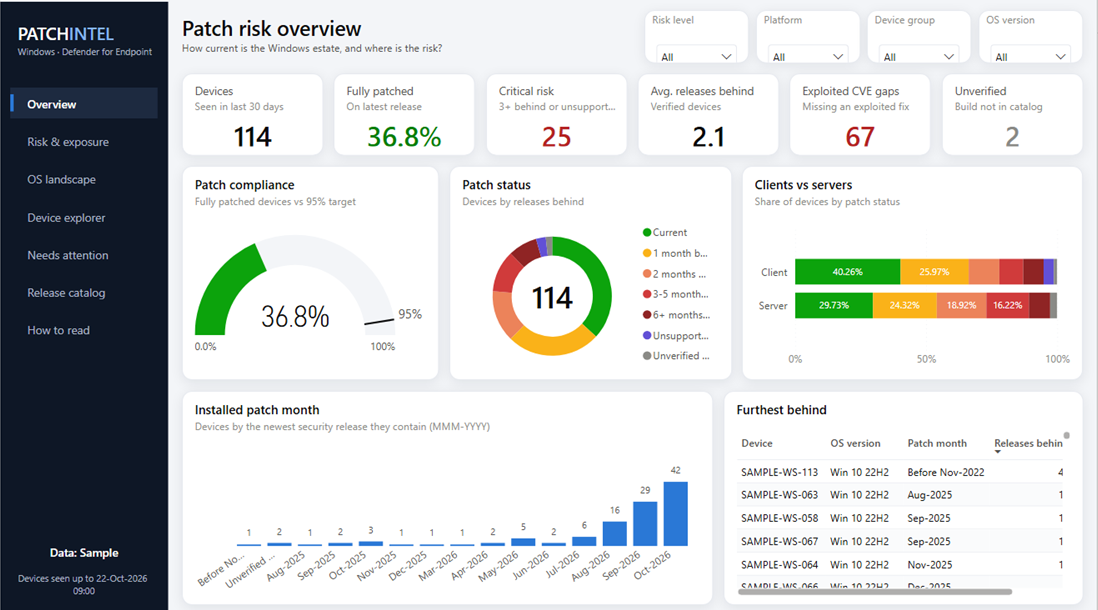

This screenshot's page, from the dashboard's own definition file:
{"tool":"powerbi","page":{"name":"Patch risk overview","canvas":[1280,720],"ordinal":0},"visuals":[{"type":"textbox","box":[0,0,196,720],"z":0},{"type":"textbox","box":[20,22,164,52],"z":1000},{"type":"textbox","box":[12,100,172,36],"z":2000},{"type":"textbox","box":[12,108,4,20],"z":3000},{"type":"actionButton","box":[12,100,172,36],"z":4000},{"type":"actionButton","box":[12,144,172,36],"z":5000},{"type":"actionButton","box":[12,188,172,36],"z":6000},{"type":"actionButton","box":[12,232,172,36],"z":7000},{"type":"actionButton","box":[12,276,172,36],"z":8000},{"type":"actionButton","box":[12,320,172,36],"z":9000},{"type":"actionButton","box":[12,364,172,36],"z":10000},{"type":"card","fields":{"Values":["DevicePatchLevel.Data Source Label"]},"box":[12,628,172,34],"z":11000},{"type":"card","fields":{"Values":["DevicePatchLevel.Data As Of"]},"box":[12,658,172,44],"z":12000},{"type":"textbox","box":[212,14,520,56],"z":13000},{"type":"slicer","title":"Risk level","fields":{"Values":["DevicePatchLevel.RiskLevel"]},"box":[752,10,122,62],"z":14000},{"type":"slicer","title":"Platform","fields":{"Values":["DevicePatchLevel.Platform"]},"box":[882,10,122,62],"z":15000},{"type":"slicer","title":"Device group","fields":{"Values":["DevicePatchLevel.MachineGroup"]},"box":[1012,10,122,62],"z":16000},{"type":"slicer","title":"OS version","fields":{"Values":["DevicePatchLevel.OS"]},"box":[1142,10,122,62],"z":17000},{"type":"card","title":"Devices","fields":{"Values":["DevicePatchLevel.Devices"]},"box":[212,84,165.3,96],"z":18000},{"type":"card","title":"Fully patched","fields":{"Values":["DevicePatchLevel.% Current"]},"box":[389.3,84,165.3,96],"z":19000},{"type":"card","title":"Critical risk","fields":{"Values":["DevicePatchLevel.Devices Critical Risk"]},"box":[566.7,84,165.3,96],"z":20000},{"type":"card","title":"Avg. releases behind","fields":{"Values":["DevicePatchLevel.Avg Patches Behind"]},"box":[744,84,165.3,96],"z":21000},{"type":"card","title":"Exploited CVE gaps","fields":{"Values":["DevicePatchLevel.Devices Missing Exploited CVEs"]},"box":[921.3,84,165.3,96],"z":22000},{"type":"card","title":"Unverified","fields":{"Values":["DevicePatchLevel.Devices Unverified"]},"box":[1098.7,84,165.3,96],"z":23000},{"type":"gauge","title":"Patch compliance","fields":{"MaxValue":["DevicePatchLevel.Gauge Max"],"TargetValue":["DevicePatchLevel.Compliance Target"],"Y":["DevicePatchLevel.% Current"]},"box":[212,192,300,250],"z":24000},{"type":"donutChart","title":"Patch status","fields":{"Category":["DevicePatchLevel.PatchStatus"],"Y":["DevicePatchLevel.Devices"]},"box":[524,192,330,250],"z":25000},{"type":"hundredPercentStackedBarChart","title":"Clients vs servers","fields":{"Category":["DevicePatchLevel.Platform"],"Series":["DevicePatchLevel.PatchStatus"],"Y":["DevicePatchLevel.Devices"]},"box":[866,192,398,250],"z":26000},{"type":"clusteredColumnChart","title":"Installed patch month","fields":{"Category":["DevicePatchLevel.PatchMonth"],"Y":["DevicePatchLevel.Devices"]},"box":[212,454,620,250],"z":27000},{"type":"tableEx","title":"Furthest behind","fields":{"Values":["DevicePatchLevel.DeviceName","DevicePatchLevel.OS","DevicePatchLevel.PatchMonth","DevicePatchLevel.PatchesBehind","DevicePatchLevel.RiskLevel"]},"box":[844,454,420,250],"z":28000}]}

Visuals, with their boxes on the page's 1280x720 design canvas (x1, y1, x2, y2). These are canvas units, not pixel positions in the 1098x610 screenshot, which may show the page scaled, cropped or inside an application window:
textbox: [left=0, top=0, right=196, bottom=720]
textbox: [left=20, top=22, right=184, bottom=74]
textbox: [left=12, top=100, right=184, bottom=136]
textbox: [left=12, top=108, right=16, bottom=128]
actionButton: [left=12, top=100, right=184, bottom=136]
actionButton: [left=12, top=144, right=184, bottom=180]
actionButton: [left=12, top=188, right=184, bottom=224]
actionButton: [left=12, top=232, right=184, bottom=268]
actionButton: [left=12, top=276, right=184, bottom=312]
actionButton: [left=12, top=320, right=184, bottom=356]
actionButton: [left=12, top=364, right=184, bottom=400]
card - DevicePatchLevel.Data Source Label: [left=12, top=628, right=184, bottom=662]
card - DevicePatchLevel.Data As Of: [left=12, top=658, right=184, bottom=702]
textbox: [left=212, top=14, right=732, bottom=70]
"Risk level" slicer: [left=752, top=10, right=874, bottom=72]
"Platform" slicer: [left=882, top=10, right=1004, bottom=72]
"Device group" slicer: [left=1012, top=10, right=1134, bottom=72]
"OS version" slicer: [left=1142, top=10, right=1264, bottom=72]
"Devices" card: [left=212, top=84, right=377, bottom=180]
"Fully patched" card: [left=389, top=84, right=555, bottom=180]
"Critical risk" card: [left=567, top=84, right=732, bottom=180]
"Avg. releases behind" card: [left=744, top=84, right=909, bottom=180]
"Exploited CVE gaps" card: [left=921, top=84, right=1087, bottom=180]
"Unverified" card: [left=1099, top=84, right=1264, bottom=180]
"Patch compliance" gauge: [left=212, top=192, right=512, bottom=442]
"Patch status" donutChart: [left=524, top=192, right=854, bottom=442]
"Clients vs servers" hundredPercentStackedBarChart: [left=866, top=192, right=1264, bottom=442]
"Installed patch month" clusteredColumnChart: [left=212, top=454, right=832, bottom=704]
"Furthest behind" tableEx: [left=844, top=454, right=1264, bottom=704]
